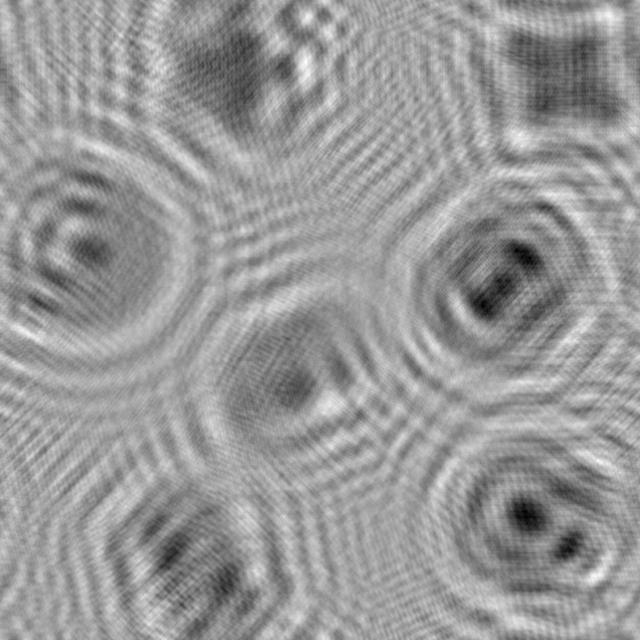B: (355, 151, 640, 432)
K: (113, 0, 370, 190)
L: (166, 236, 434, 489)
R: (413, 393, 640, 640)
U: (0, 114, 219, 386)
X: (440, 0, 640, 190)
Z: (66, 424, 340, 640)
